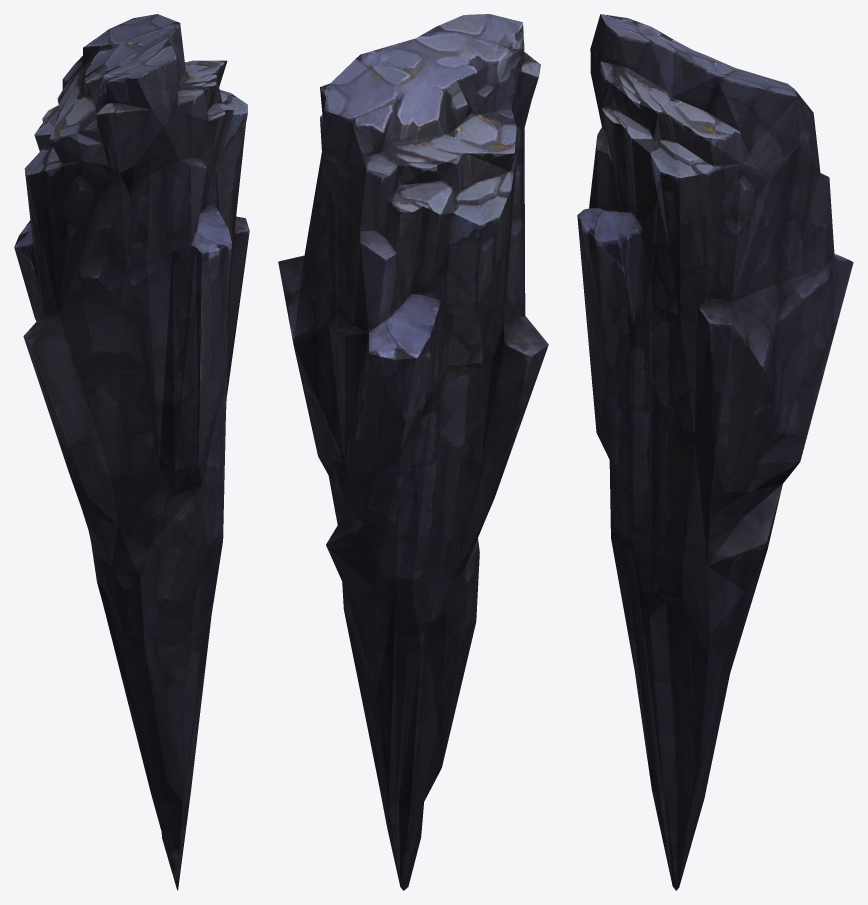
Rendered from GZ_Xsc_fushi_01_D.FBX.
3 views of the same model, side by side, from view 1: azimuth 30°, elevation 25°; view 2: azimuth 150°, elevation 25°; view 3: azimuth 270°, elevation 25° (orthographic). The views are drawn at different scales.
Parts seen in each view (by area): view 1: GZ_Xsc_fushi_01_D; view 2: GZ_Xsc_fushi_01_D; view 3: GZ_Xsc_fushi_01_D.
Boxes of the visible parts, x1,y1,x2,y2 form: GZ_Xsc_fushi_01_D: (14,14,249,890); GZ_Xsc_fushi_01_D: (278,14,548,890); GZ_Xsc_fushi_01_D: (577,14,853,890).
Bounding box in the file's own units: 22.84 × 77.32 × 23.01.
